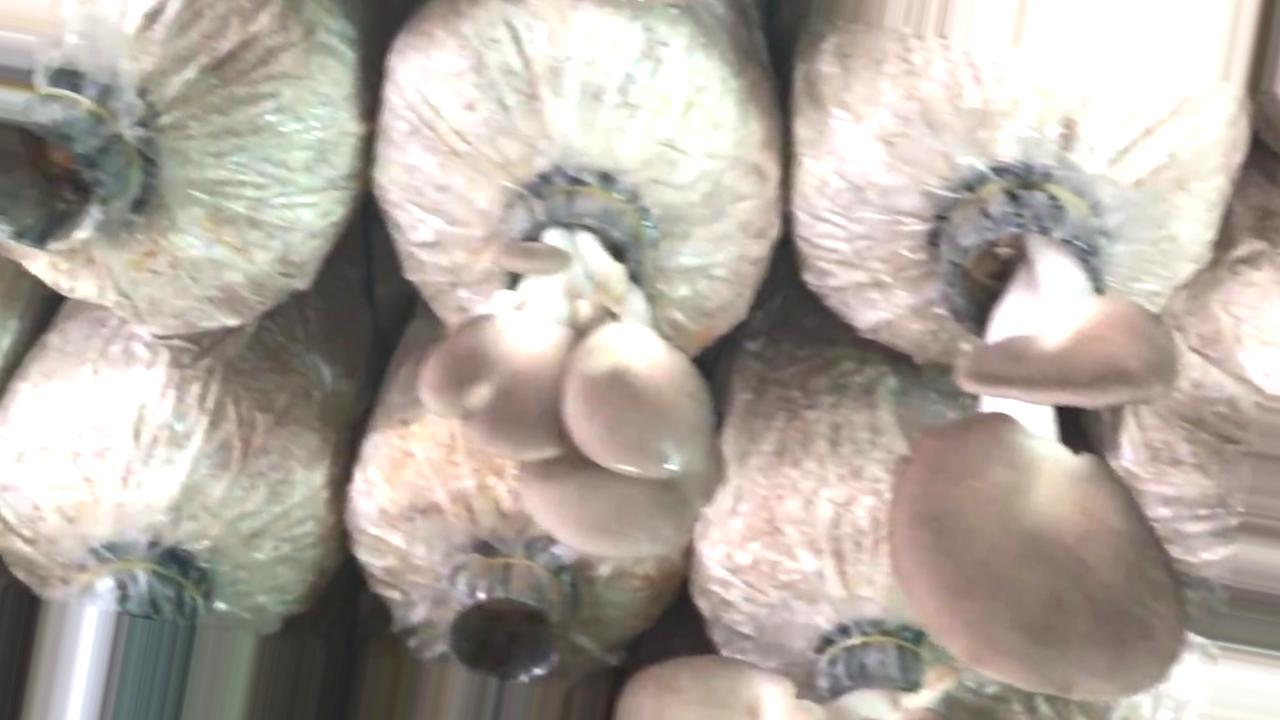nam: (886, 175, 1192, 705), (413, 174, 721, 564)
